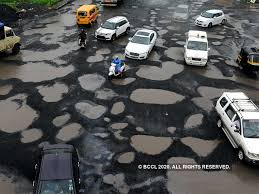pothole: (2, 60, 70, 92), (1, 95, 42, 140), (23, 24, 71, 56), (77, 73, 116, 101), (52, 110, 85, 140), (130, 88, 187, 105), (180, 136, 223, 158), (157, 24, 182, 61), (131, 133, 174, 154), (136, 62, 184, 78), (190, 83, 214, 108), (183, 111, 204, 129), (117, 153, 138, 164)
